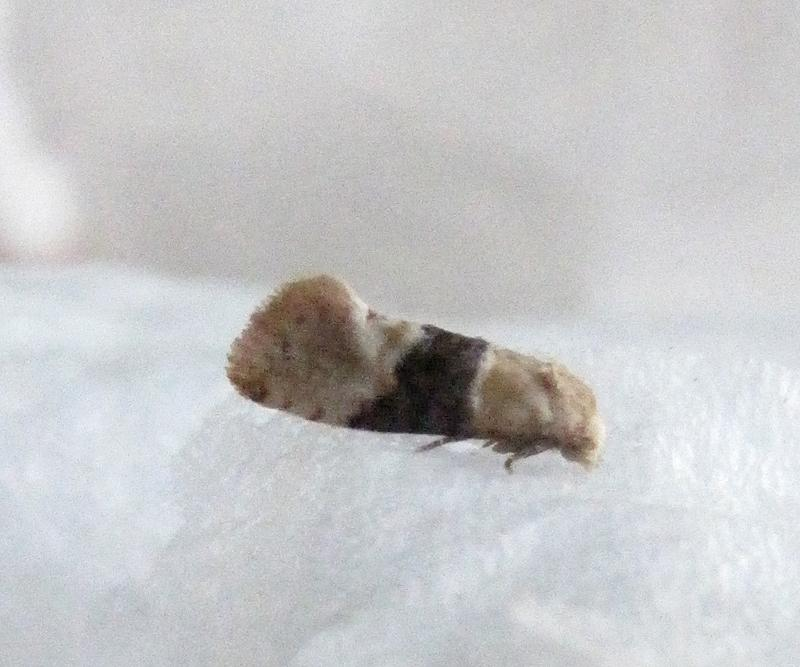Eupoecilia Ambiguella: (222, 268, 608, 476)
